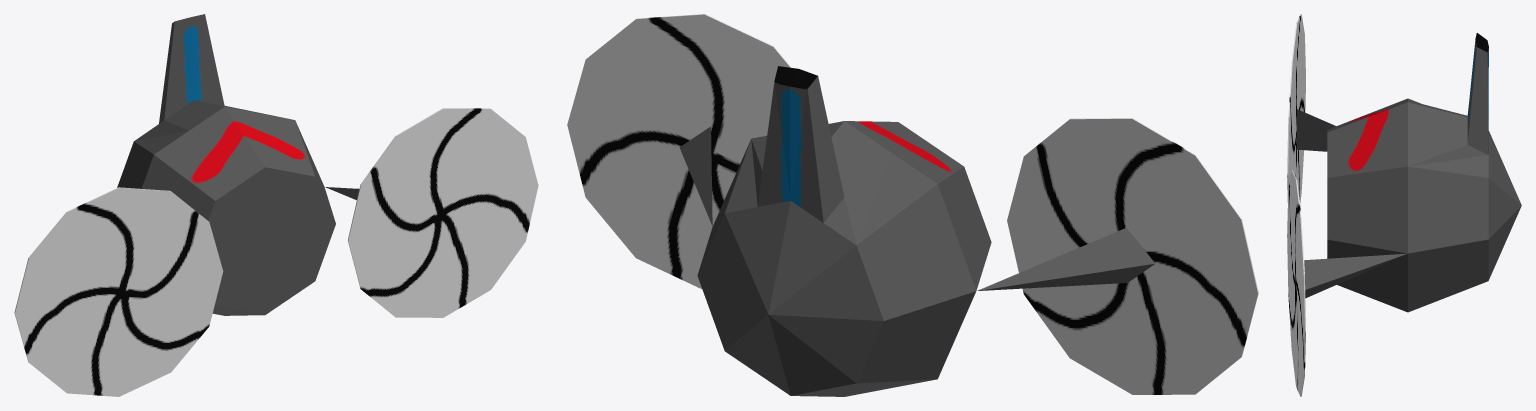
The model's file is enemy3.obj.
3 views of the same model, side by side, from view 1: azimuth 30°, elevation 25°; view 2: azimuth 150°, elevation 25°; view 3: azimuth 270°, elevation 25° (orthographic). The views are drawn at different scales.
Parts seen in each view (by area): view 1: Blades, Body; view 2: Blades, Body; view 3: Body, Blades.
Boxes of the visible parts, x1=… form: Blades: x1=14, y1=108, x2=538, y2=396; Body: x1=117, y1=14, x2=359, y2=315; Blades: x1=567, y1=14, x2=1258, y2=394; Body: x1=679, y1=66, x2=1155, y2=396; Body: x1=1296, y1=33, x2=1521, y2=312; Blades: x1=1287, y1=14, x2=1305, y2=396.
Size of the model in its own units: 5.24 by 2.62 by 2.06.
Materials: 1 (1 with a texture image).
